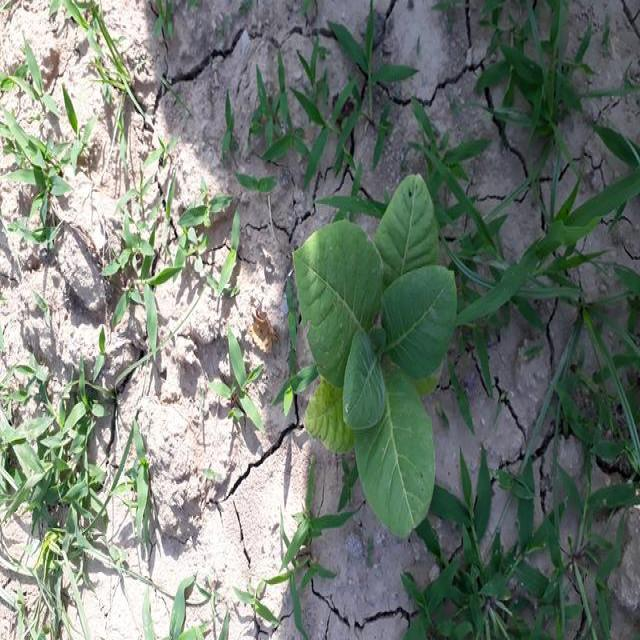crop: (295, 170, 464, 523)
